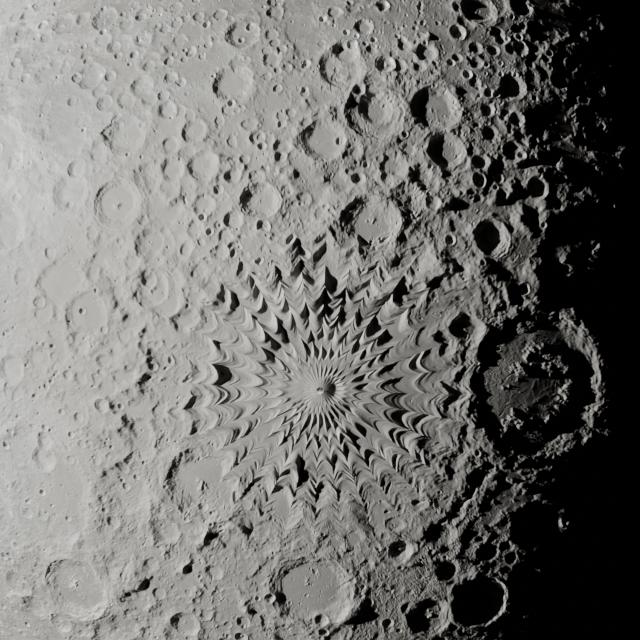crater: (497, 498, 568, 566), (170, 448, 239, 514), (45, 557, 110, 621), (448, 576, 508, 628), (563, 101, 615, 153), (94, 177, 146, 227), (351, 196, 401, 244), (523, 96, 573, 142), (304, 116, 351, 162), (107, 109, 153, 156), (421, 89, 466, 133), (555, 237, 600, 276), (214, 64, 256, 104), (53, 170, 91, 214), (472, 218, 510, 258), (362, 90, 400, 128), (401, 598, 440, 632), (319, 49, 355, 85), (226, 18, 262, 50), (189, 149, 222, 183), (381, 153, 414, 185), (240, 599, 274, 630), (456, 0, 496, 26), (440, 135, 470, 167), (494, 72, 525, 102), (154, 518, 185, 547), (389, 537, 418, 565), (192, 193, 220, 221), (130, 74, 158, 102), (344, 525, 372, 553), (92, 7, 122, 33), (2, 354, 26, 385), (51, 10, 81, 34), (183, 117, 210, 143), (172, 611, 202, 634), (488, 26, 514, 52), (523, 174, 549, 200), (482, 505, 509, 529), (34, 447, 57, 473), (433, 560, 458, 583), (262, 47, 285, 70), (501, 140, 522, 162), (508, 37, 530, 58), (225, 209, 245, 230), (347, 169, 368, 189), (555, 244, 573, 267), (414, 42, 434, 62), (67, 160, 87, 180), (157, 100, 177, 120), (470, 170, 489, 191), (376, 54, 398, 72), (466, 40, 486, 59), (178, 240, 196, 260), (448, 23, 468, 41), (5, 570, 24, 588), (312, 612, 330, 630), (480, 125, 498, 143), (356, 18, 374, 36), (502, 549, 519, 567), (95, 96, 114, 112), (471, 154, 488, 171), (484, 42, 502, 58), (55, 619, 73, 635), (234, 614, 250, 630), (264, 28, 280, 44), (44, 245, 60, 261), (208, 565, 224, 581), (265, 5, 281, 20), (274, 113, 288, 130), (200, 607, 215, 622), (94, 398, 109, 413), (273, 591, 288, 606), (20, 507, 36, 521), (213, 8, 229, 22), (558, 514, 570, 532), (479, 104, 494, 118), (212, 114, 226, 129), (32, 296, 47, 310), (240, 118, 254, 132), (298, 193, 312, 207), (72, 409, 85, 424), (328, 6, 344, 18), (255, 218, 268, 232), (226, 134, 239, 148), (444, 233, 457, 247), (376, 0, 390, 13), (519, 283, 532, 297), (103, 70, 116, 83), (152, 586, 164, 600), (182, 562, 194, 576), (461, 68, 474, 80), (263, 593, 276, 605), (381, 618, 393, 630), (192, 12, 205, 23), (298, 86, 310, 97), (71, 72, 82, 84), (66, 96, 78, 107), (272, 84, 284, 94), (255, 141, 266, 151), (300, 59, 310, 70), (114, 401, 124, 411), (201, 20, 211, 29), (2, 440, 11, 450), (77, 307, 85, 316), (38, 488, 46, 496)
rock: (338, 195, 366, 229), (473, 542, 499, 564), (444, 195, 472, 214), (238, 186, 256, 212), (505, 358, 527, 378), (201, 528, 220, 550), (544, 358, 570, 374), (558, 377, 576, 400), (509, 406, 528, 426), (526, 339, 546, 356), (128, 576, 146, 594), (407, 207, 422, 223), (196, 530, 211, 545), (310, 567, 318, 575), (304, 577, 312, 585), (304, 592, 310, 599)
